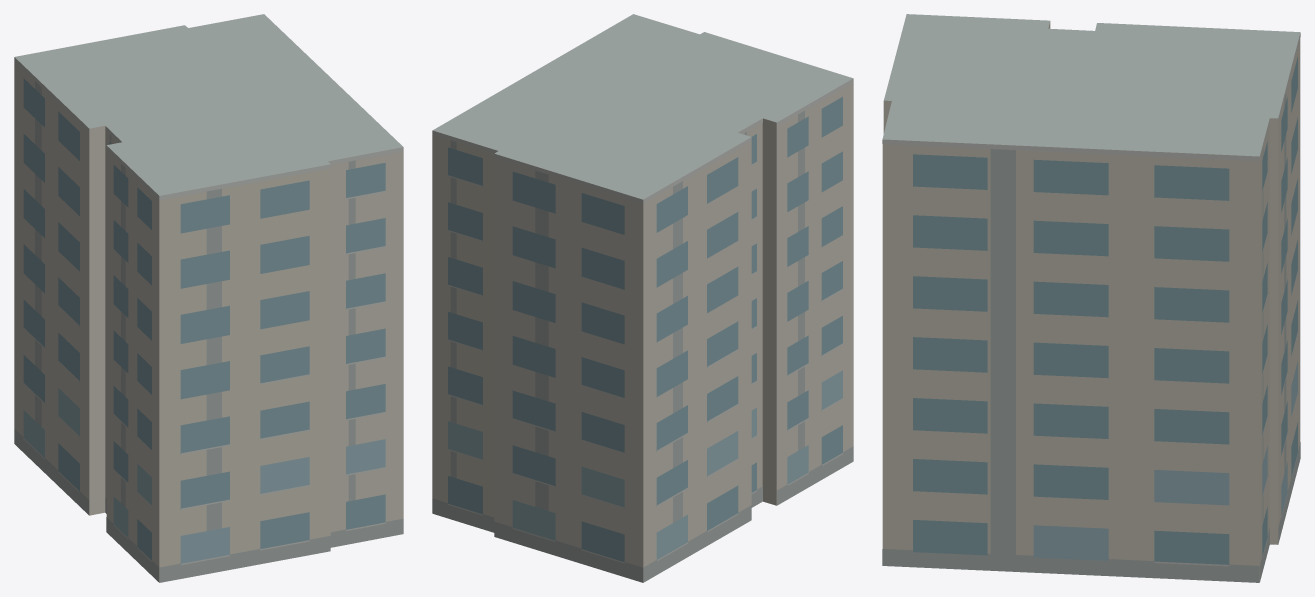
Rendered from survey-upis-32763753.glb.
3 renders of one model, left to right at view 1: azimuth 30°, elevation 25°; view 2: azimuth 150°, elevation 25°; view 3: azimuth 270°, elevation 25°, orthographic. The views are drawn at different scales.
Parts seen in each view (by area): view 1: survey-upis-32763753.tmp; view 2: survey-upis-32763753.tmp; view 3: survey-upis-32763753.tmp.
Boxes of the visible parts, left/top/right/bottom form: survey-upis-32763753.tmp: left=14, top=14, right=403, bottom=582; survey-upis-32763753.tmp: left=432, top=14, right=853, bottom=582; survey-upis-32763753.tmp: left=882, top=14, right=1300, bottom=582.
Bounding box in the file's own units: 15.85 × 22.1 × 19.64.
